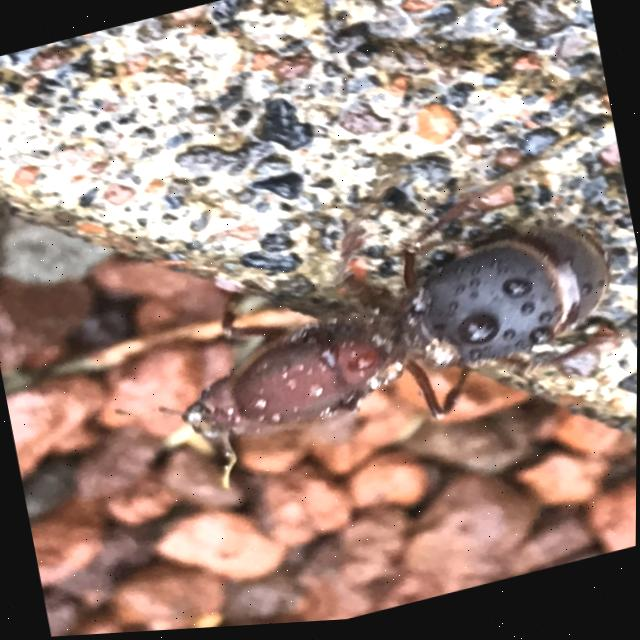Alive-Female-Dealate: (83, 126, 639, 517)
